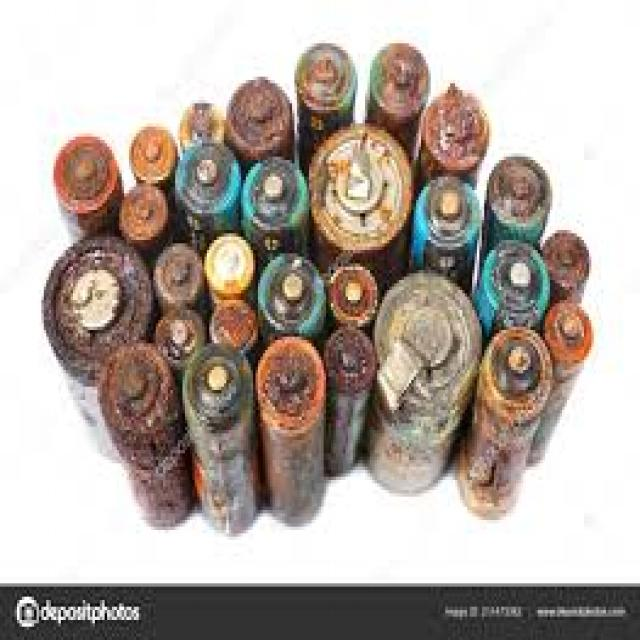non-organic waste: (367, 264, 480, 514), (43, 240, 149, 460), (450, 322, 550, 523), (93, 344, 195, 529), (181, 342, 261, 538), (254, 335, 324, 528), (526, 302, 592, 469), (321, 326, 376, 473)
